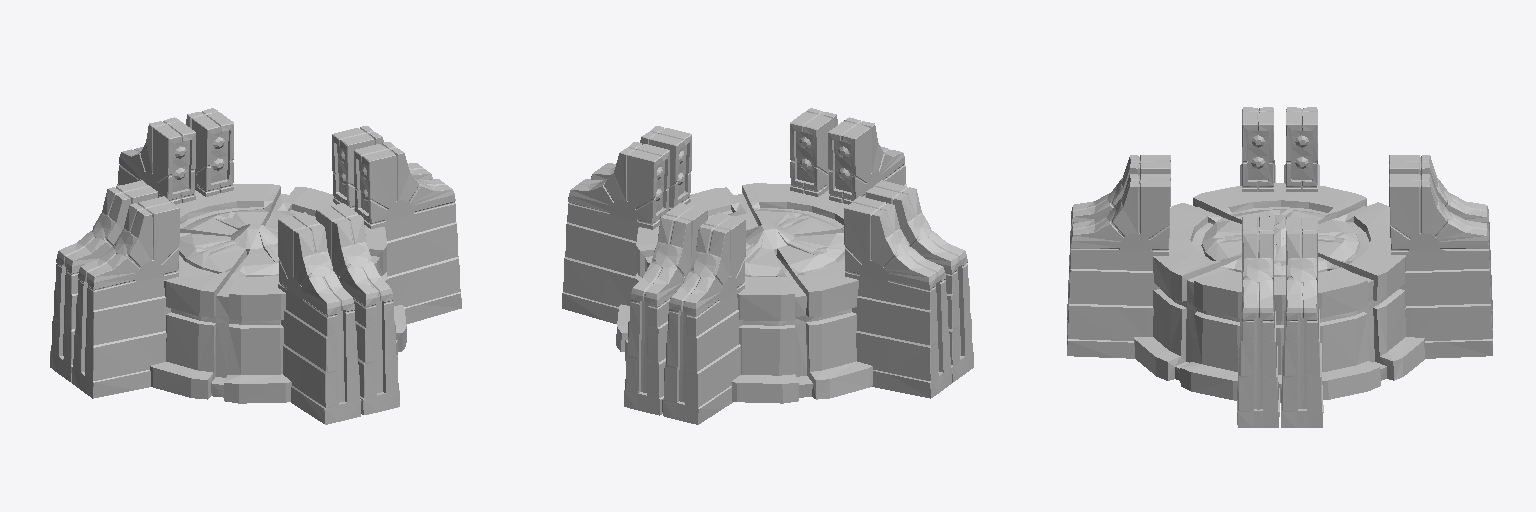
The model's file is altar.obj.
The picture shows the model from 3 angles: view 1: azimuth 30°, elevation 25°; view 2: azimuth 150°, elevation 25°; view 3: azimuth 270°, elevation 25°; orthographic projection.
Visible parts, largest first — view 1: altar_LOpoly:polySurface10_Untitled.001, polySurface32_Untitled.007, polySurface31_Untitled.004, polySurface29_Untitled.005, polySurface30_Untitled, polySurface33_Untitled.003, polySurface26_Untitled.006, polySurface27_Untitled.008, polySurface28_Untitled.002; view 2: altar_LOpoly:polySurface10_Untitled.001, polySurface33_Untitled.003, polySurface26_Untitled.006, polySurface28_Untitled.002, polySurface27_Untitled.008, polySurface32_Untitled.007, polySurface31_Untitled.004, polySurface30_Untitled, polySurface29_Untitled.005; view 3: altar_LOpoly:polySurface10_Untitled.001, polySurface27_Untitled.008, polySurface30_Untitled, polySurface29_Untitled.005, polySurface28_Untitled.002, polySurface32_Untitled.007, polySurface33_Untitled.003, polySurface26_Untitled.006, polySurface31_Untitled.004.
Part boxes in pixels (x1,y1,x2,y2): altar_LOpoly:polySurface10_Untitled.001: (150, 184, 406, 403); polySurface32_Untitled.007: (72, 196, 179, 398); polySurface31_Untitled.004: (278, 212, 361, 424); polySurface29_Untitled.005: (354, 142, 461, 323); polySurface30_Untitled: (316, 203, 399, 414); polySurface33_Untitled.003: (50, 180, 157, 382); polySurface26_Untitled.006: (117, 117, 195, 204); polySurface27_Untitled.008: (186, 108, 233, 196); polySurface28_Untitled.002: (332, 126, 432, 210); altar_LOpoly:polySurface10_Untitled.001: (616, 183, 872, 403); polySurface33_Untitled.003: (844, 196, 951, 398); polySurface26_Untitled.006: (662, 212, 745, 424); polySurface28_Untitled.002: (562, 142, 669, 323); polySurface27_Untitled.008: (624, 203, 707, 415); polySurface32_Untitled.007: (866, 180, 973, 382); polySurface31_Untitled.004: (828, 117, 906, 204); polySurface30_Untitled: (790, 108, 837, 196); polySurface29_Untitled.005: (591, 126, 691, 210); altar_LOpoly:polySurface10_Untitled.001: (1134, 183, 1425, 402); polySurface27_Untitled.008: (1389, 174, 1492, 358); polySurface30_Untitled: (1067, 174, 1170, 358); polySurface29_Untitled.005: (1237, 217, 1279, 427); polySurface28_Untitled.002: (1281, 217, 1323, 427); polySurface32_Untitled.007: (1240, 107, 1275, 191); polySurface33_Untitled.003: (1284, 107, 1319, 191); polySurface26_Untitled.006: (1389, 155, 1492, 318); polySurface31_Untitled.004: (1067, 155, 1170, 321).
Size of the model in its own units: 1.99 by 0.8767 by 1.99.